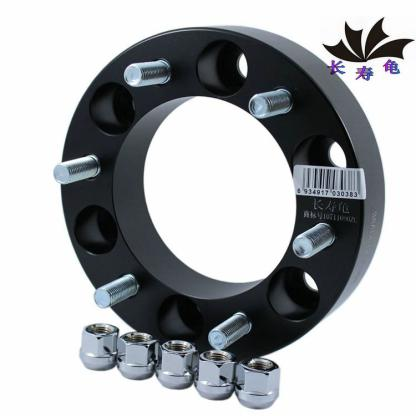FOD: (55, 22, 390, 366), (236, 355, 282, 410), (76, 321, 121, 373)
